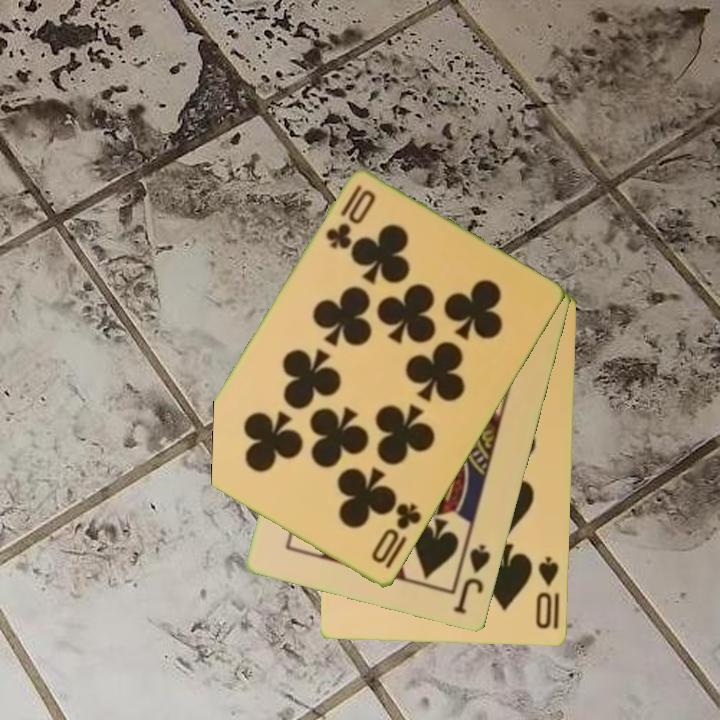10c: (322, 182, 379, 253), (368, 500, 425, 567)
10s: (532, 553, 563, 633)
Js: (450, 541, 494, 618)
